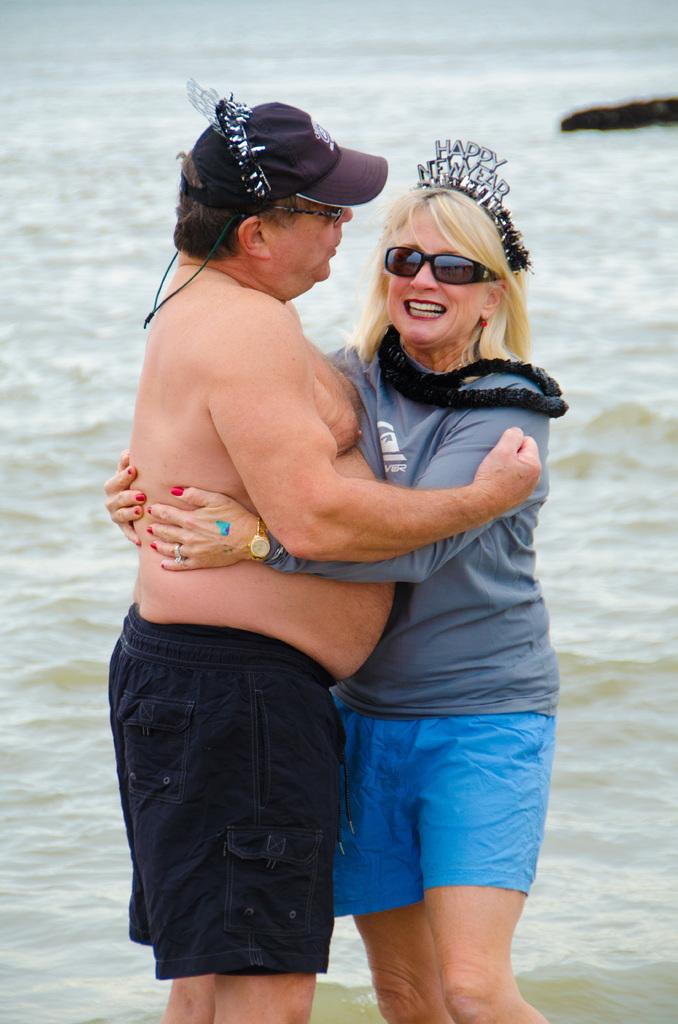Hat: (174, 97, 389, 216)
